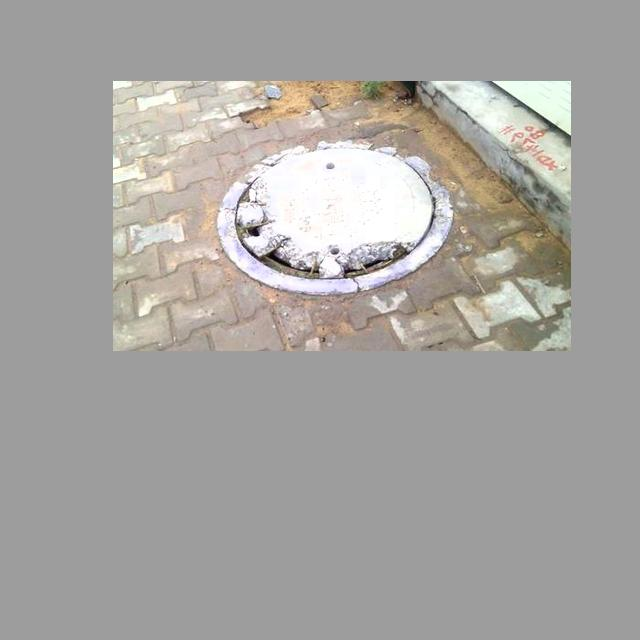broke: (216, 136, 457, 292)
